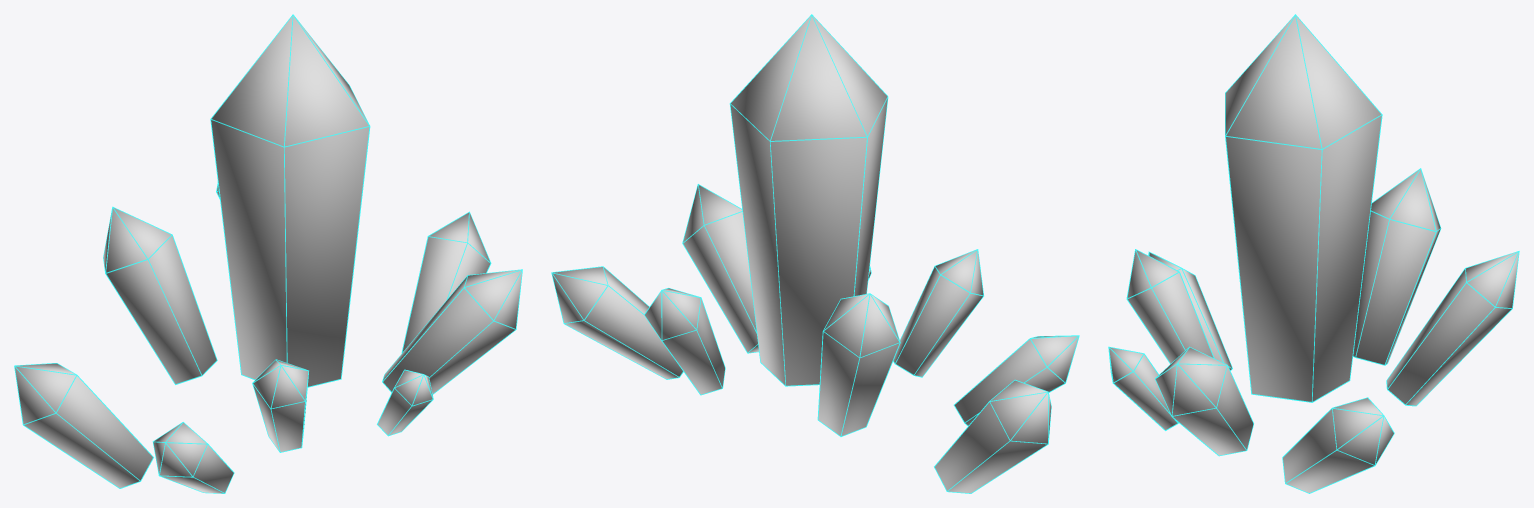
Rendered from crystal.fbx.
3 views of the same model, side by side, from view 1: azimuth 30°, elevation 25°; view 2: azimuth 150°, elevation 25°; view 3: azimuth 270°, elevation 25° (orthographic). The views are drawn at different scales.
Visible parts, largest first — view 1: Cylinder.001; view 2: Cylinder.001; view 3: Cylinder.001.
Part boxes in pixels (bbox=[...]): Cylinder.001: bbox=[14, 14, 522, 493]; Cylinder.001: bbox=[551, 14, 1079, 493]; Cylinder.001: bbox=[1108, 14, 1519, 493].
Bounding box in the file's own units: 1049 × 919 × 758.
